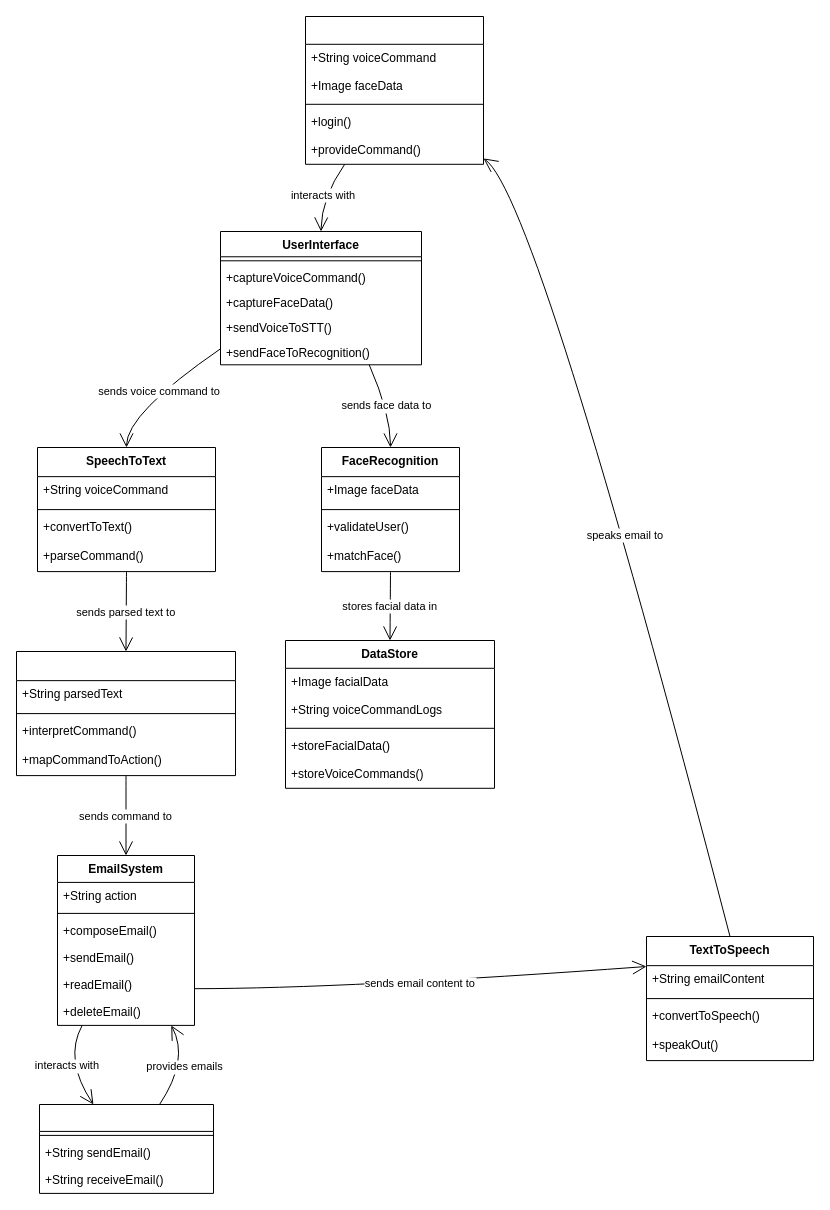
Some shapes in this 830 by 1210 pixel diagram are drawn without their labels. The shapes that lost their labels are listed below. From the top down, each one's box as (x1, y1, x2, y2) in pixels, then its label:
(304, 16, 484, 164): User
(16, 650, 236, 776): NaturalLanguageProcessing
(38, 1104, 214, 1193): EmailServer
